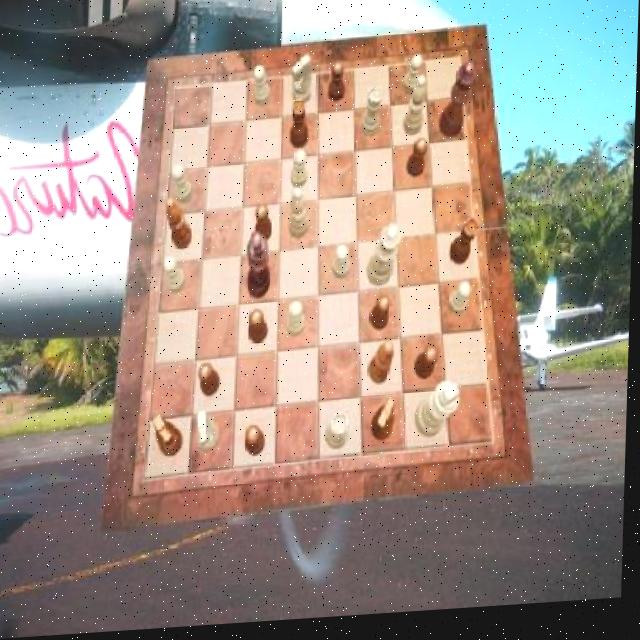bishop: (165, 200, 193, 254), (371, 347, 396, 390)
black-bishop: (246, 235, 272, 303)
black-king: (154, 416, 186, 460), (373, 403, 398, 447)
black-knight: (416, 352, 441, 387), (407, 144, 429, 182), (199, 365, 222, 400), (371, 301, 393, 336), (256, 207, 275, 247), (328, 66, 346, 107), (251, 313, 271, 349), (246, 428, 267, 461)
black-pawn: (439, 67, 476, 144)
black-queen: (452, 224, 480, 271), (291, 102, 309, 154)
black-rook: (403, 82, 427, 143), (288, 191, 309, 245)
white-bishop: (415, 388, 461, 444)
white-king: (291, 59, 312, 109), (199, 413, 223, 455)
white-knight: (171, 166, 195, 206), (164, 258, 188, 296), (449, 289, 473, 324), (403, 61, 423, 100), (253, 70, 272, 111), (289, 305, 308, 342), (291, 153, 309, 191), (334, 249, 352, 284)
white-pawn: (368, 228, 404, 292)
white-queen: (362, 93, 384, 142), (328, 417, 351, 454)
